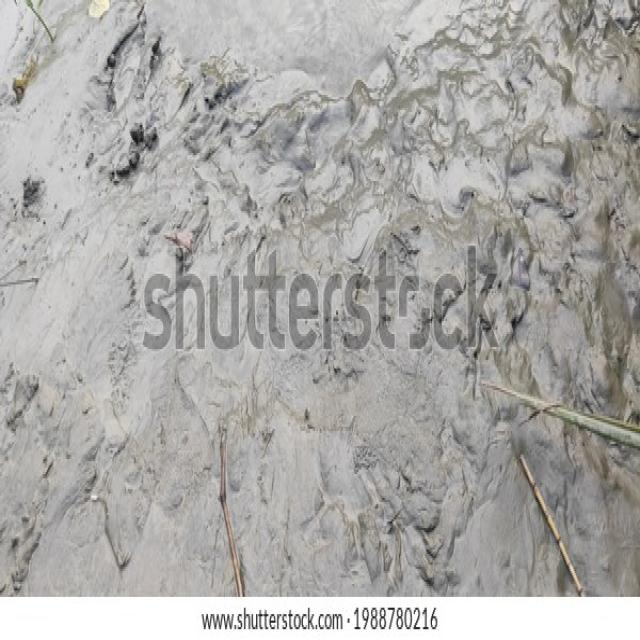Alluvial Soil: (210, 63, 581, 192), (32, 129, 140, 530)
